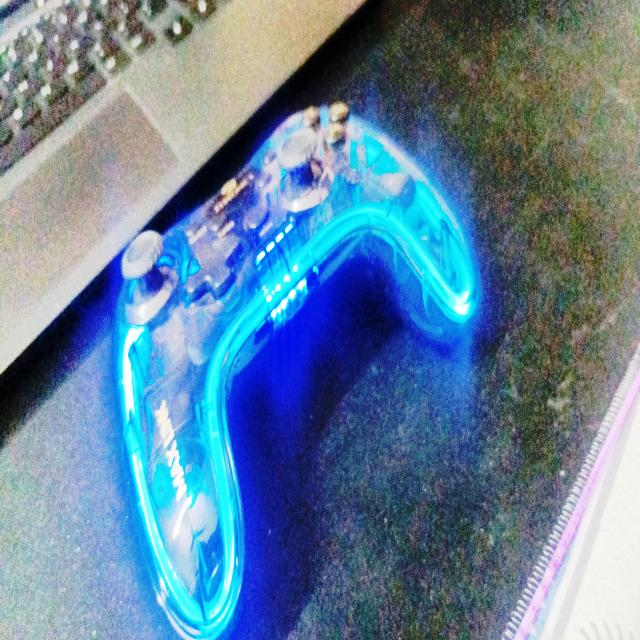gamepad: (110, 98, 482, 637)
